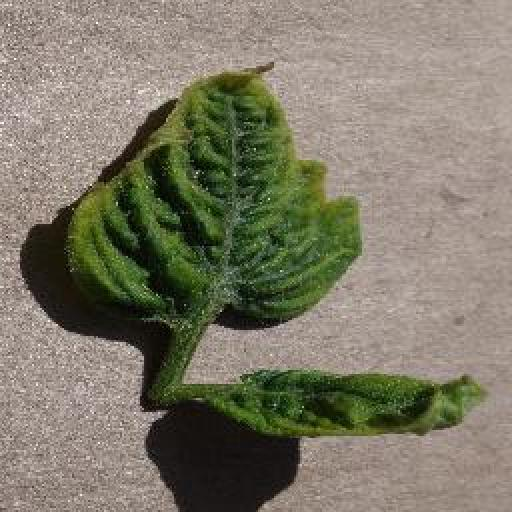Yellow Leaf Curl Virus: (69, 53, 363, 323)
